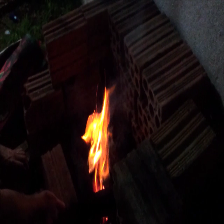fire_h: (80, 86, 117, 192)
fire_l: (103, 217, 108, 220)
